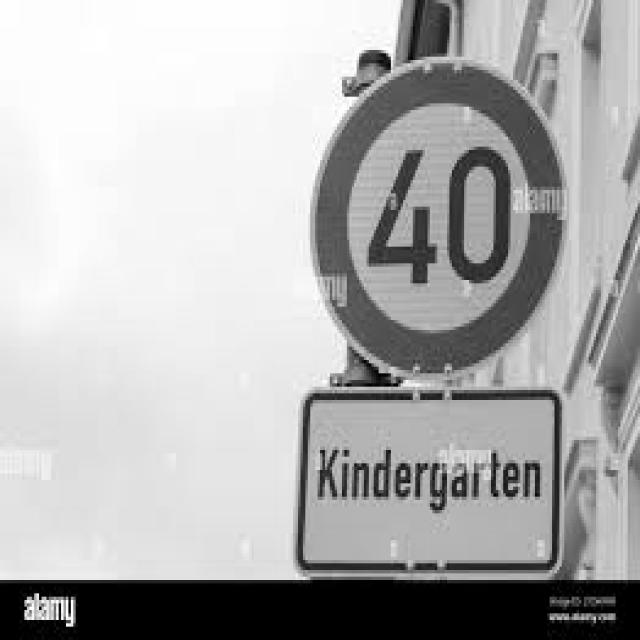speed_40: (310, 52, 573, 374)
